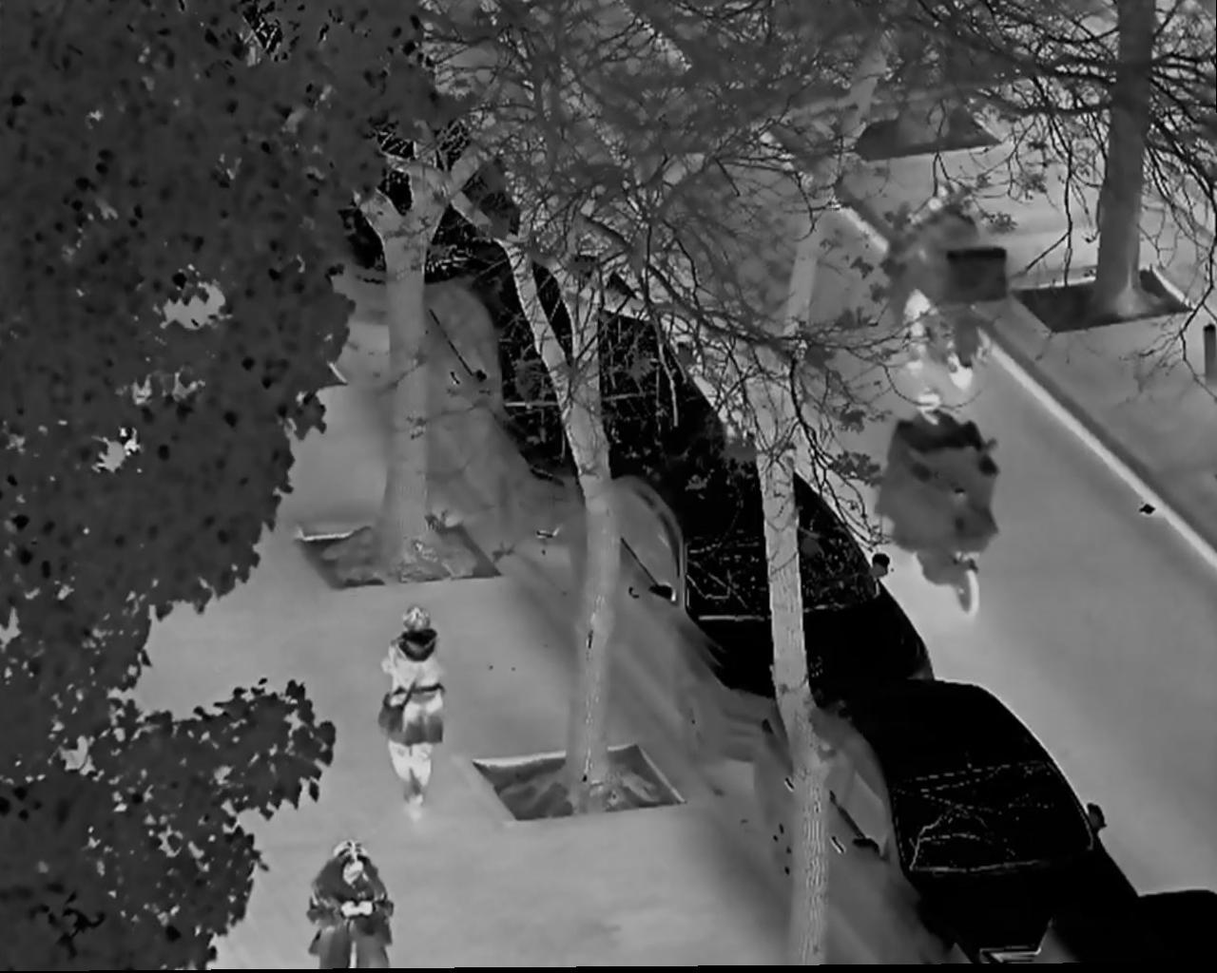person: (379, 608, 452, 824), (895, 395, 984, 561), (904, 180, 984, 353), (307, 842, 393, 973)
